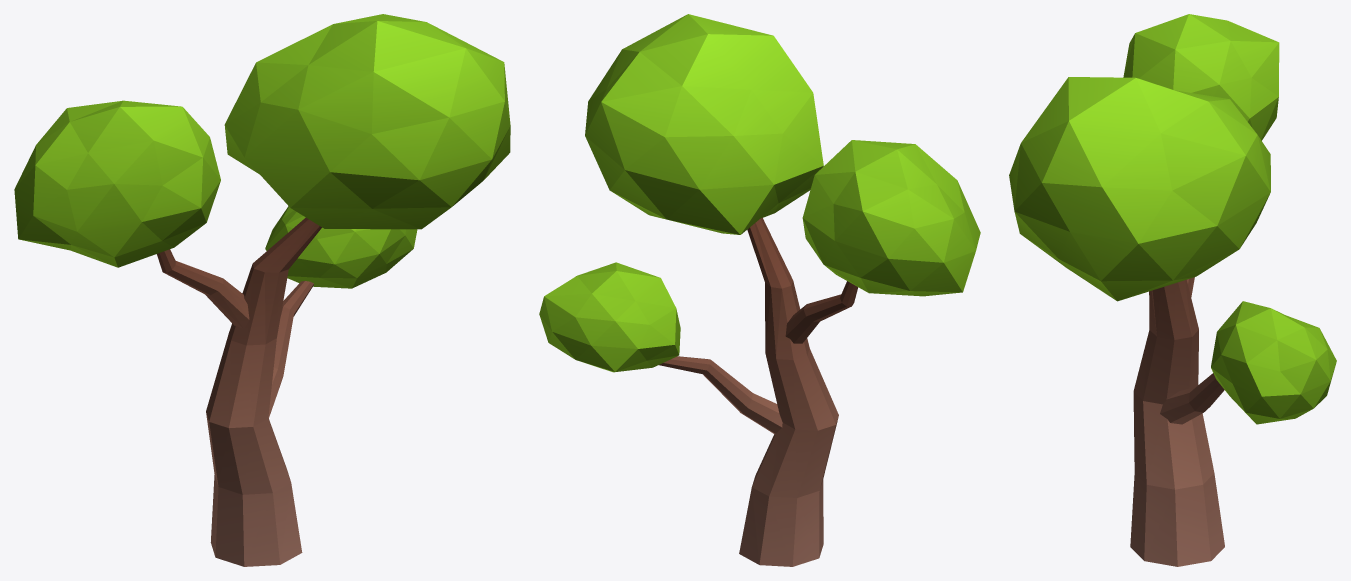
File: Tree_03.fbx
3 views of the same model, side by side, from view 1: azimuth 30°, elevation 25°; view 2: azimuth 150°, elevation 25°; view 3: azimuth 270°, elevation 25° (orthographic). The views are drawn at different scales.
Visible parts, largest first — view 1: Tree_03; view 2: Tree_03; view 3: Tree_03.
Part boxes in pixels (x1,y1,x2,y2): Tree_03: (14, 14, 510, 566); Tree_03: (539, 14, 980, 566); Tree_03: (1009, 14, 1336, 566).
Size of the model in its own units: 137 by 152 by 86.92.
